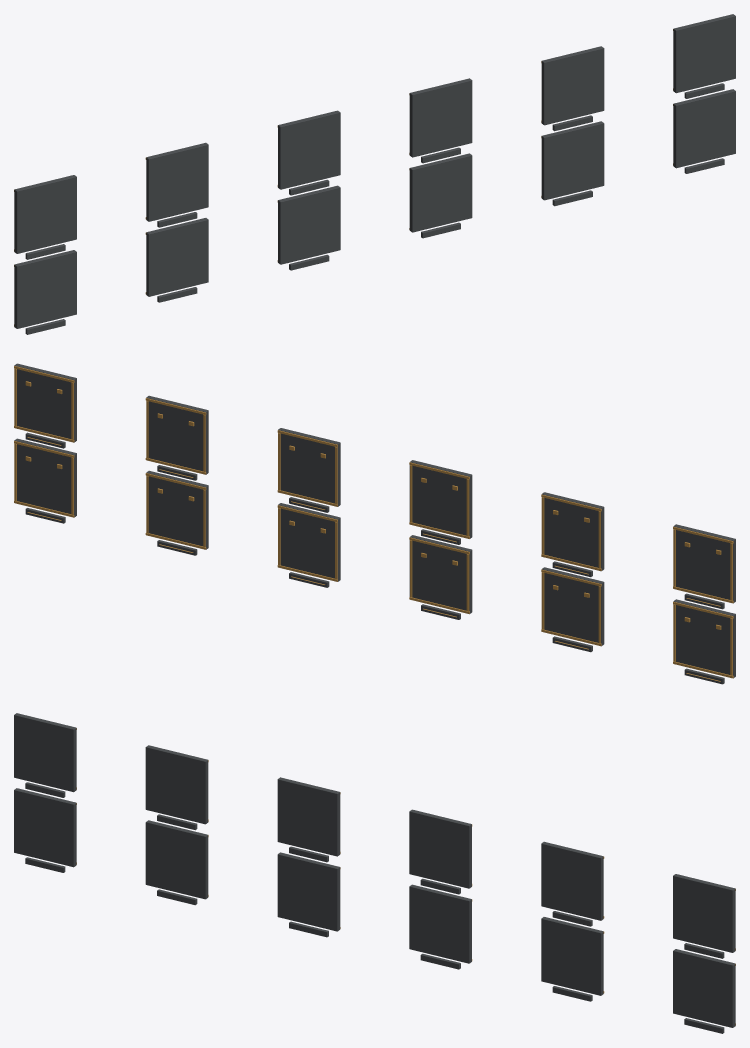
Rendered from west-plaza-empty-mounts.glb.
3 renders of one model, top to bottom at view 1: azimuth 30°, elevation 25°; view 2: azimuth 150°, elevation 25°; view 3: azimuth 330°, elevation 25°, orthographic.
Visible parts, largest first — view 1: W14 trophy mount 05, W14 trophy mount 11, W14 trophy mount 10, W14 trophy mount 04, W14 trophy mount 03, W14 trophy mount 09, W14 trophy mount 02, W14 trophy mount 08, W14 trophy mount 01, W14 trophy mount 06, W14 trophy mount 07, W14 trophy mount 12; view 2: W14 trophy mount 08, W14 trophy mount 02, W14 trophy mount 03, W14 trophy mount 09, W14 trophy mount 05, W14 trophy mount 04, W14 trophy mount 10, W14 trophy mount 11, W14 trophy mount 01, W14 trophy mount 07, W14 trophy mount 12, W14 trophy mount 06; view 3: W14 trophy mount 02, W14 trophy mount 08, W14 trophy mount 09, W14 trophy mount 03, W14 trophy mount 04, W14 trophy mount 10, W14 trophy mount 05, W14 trophy mount 11, W14 trophy mount 01, W14 trophy mount 06, W14 trophy mount 07, W14 trophy mount 12.
Boxes of the visible parts, bbox=[...] form: W14 trophy mount 05: bbox=[541, 121, 604, 206]; W14 trophy mount 11: bbox=[541, 46, 604, 131]; W14 trophy mount 10: bbox=[409, 78, 472, 163]; W14 trophy mount 04: bbox=[409, 153, 472, 238]; W14 trophy mount 03: bbox=[277, 185, 340, 270]; W14 trophy mount 09: bbox=[277, 110, 340, 195]; W14 trophy mount 02: bbox=[145, 218, 208, 302]; W14 trophy mount 08: bbox=[145, 142, 208, 227]; W14 trophy mount 01: bbox=[14, 250, 76, 334]; W14 trophy mount 06: bbox=[673, 89, 735, 173]; W14 trophy mount 07: bbox=[14, 175, 76, 259]; W14 trophy mount 12: bbox=[673, 14, 735, 98]; W14 trophy mount 08: bbox=[541, 492, 604, 577]; W14 trophy mount 02: bbox=[541, 567, 604, 652]; W14 trophy mount 03: bbox=[409, 535, 472, 619]; W14 trophy mount 09: bbox=[409, 460, 472, 544]; W14 trophy mount 05: bbox=[145, 470, 208, 555]; W14 trophy mount 04: bbox=[277, 503, 340, 587]; W14 trophy mount 10: bbox=[277, 428, 340, 512]; W14 trophy mount 11: bbox=[145, 395, 208, 480]; W14 trophy mount 01: bbox=[673, 599, 735, 684]; W14 trophy mount 07: bbox=[673, 524, 735, 609]; W14 trophy mount 12: bbox=[14, 363, 76, 448]; W14 trophy mount 06: bbox=[14, 438, 76, 523]; W14 trophy mount 02: bbox=[145, 820, 208, 905]; W14 trophy mount 08: bbox=[145, 745, 208, 830]; W14 trophy mount 09: bbox=[277, 777, 340, 862]; W14 trophy mount 03: bbox=[277, 852, 340, 937]; W14 trophy mount 04: bbox=[409, 884, 472, 969]; W14 trophy mount 10: bbox=[409, 809, 472, 894]; W14 trophy mount 05: bbox=[541, 917, 604, 1001]; W14 trophy mount 11: bbox=[541, 841, 604, 926]; W14 trophy mount 01: bbox=[14, 788, 76, 872]; W14 trophy mount 06: bbox=[673, 949, 735, 1033]; W14 trophy mount 07: bbox=[14, 713, 76, 797]; W14 trophy mount 12: bbox=[673, 874, 735, 958].
Bounding box in the file's own units: 6.82 × 1.33 × 0.0545.
